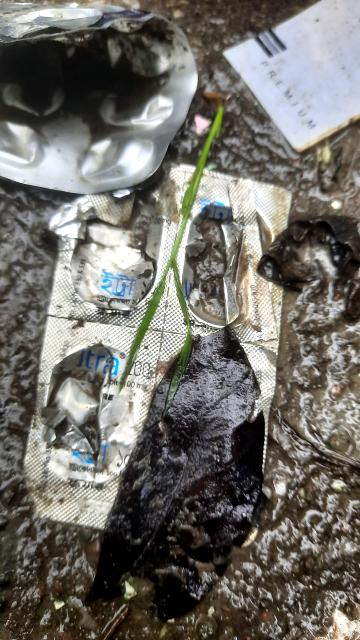medicine: (53, 153, 279, 541)
